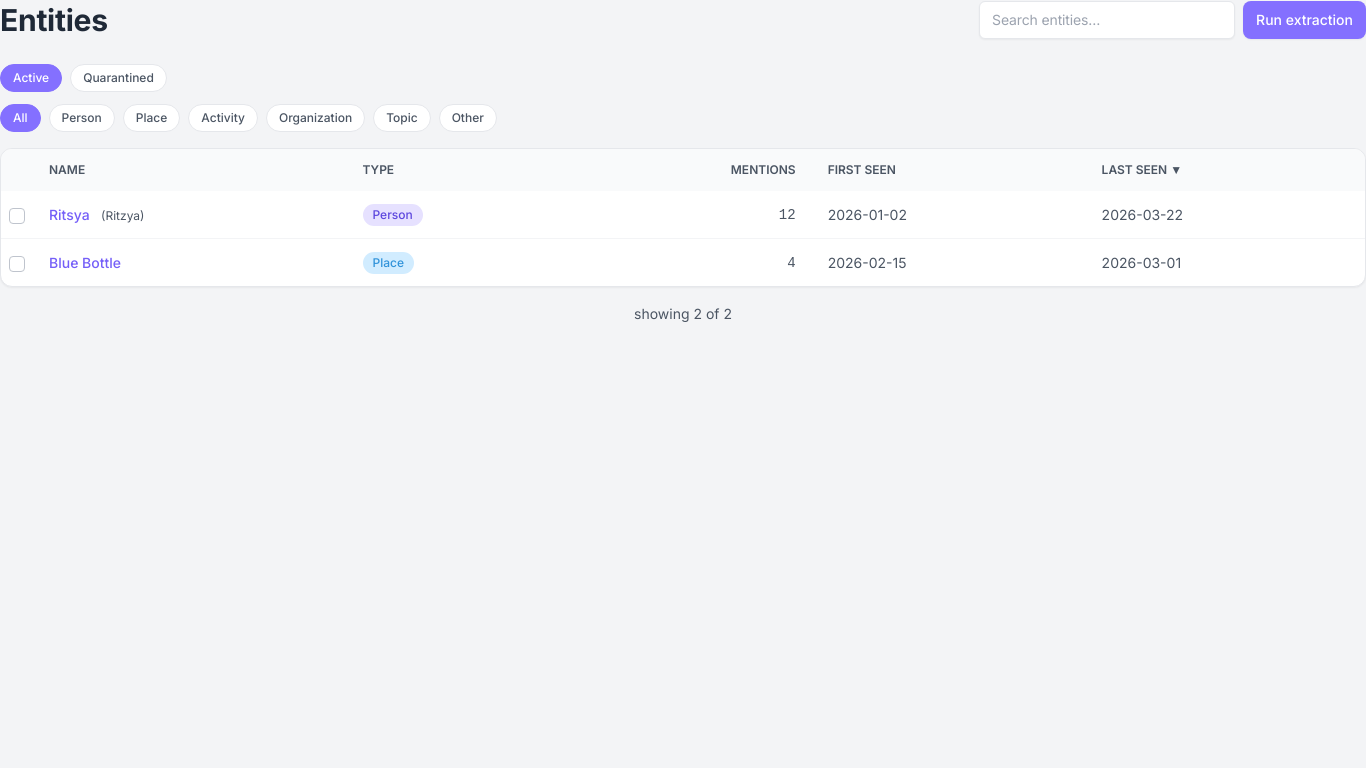
Test: EntityListView › merge modal flow › shows merge error when mergeEntities throws
# Select both and open merge modal
Click the checkbox with test id "entity-checkbox" next to "Ritsya" at (17, 216), box x1=9 y1=208 x2=25 y2=224
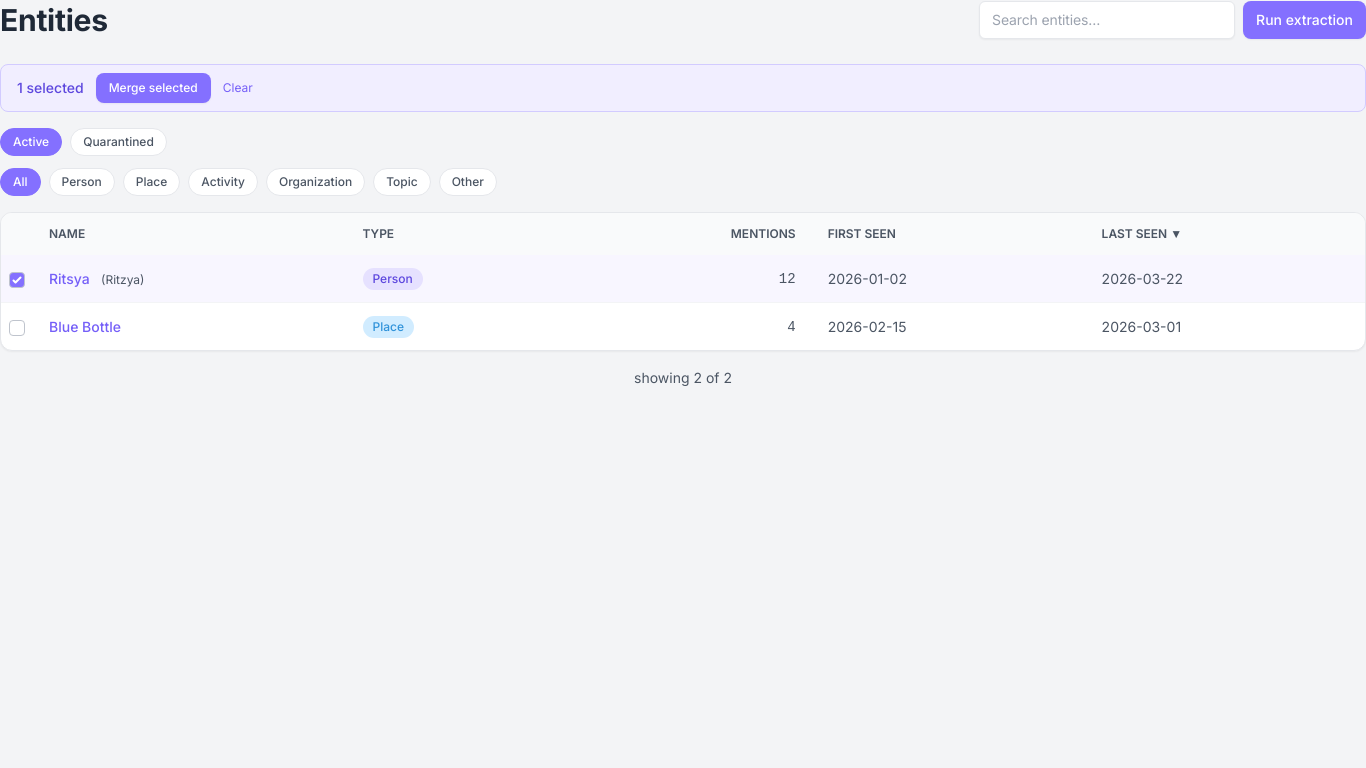
Click the checkbox with test id "entity-checkbox" next to "Blue Bottle" at (17, 328), box x1=9 y1=320 x2=25 y2=336
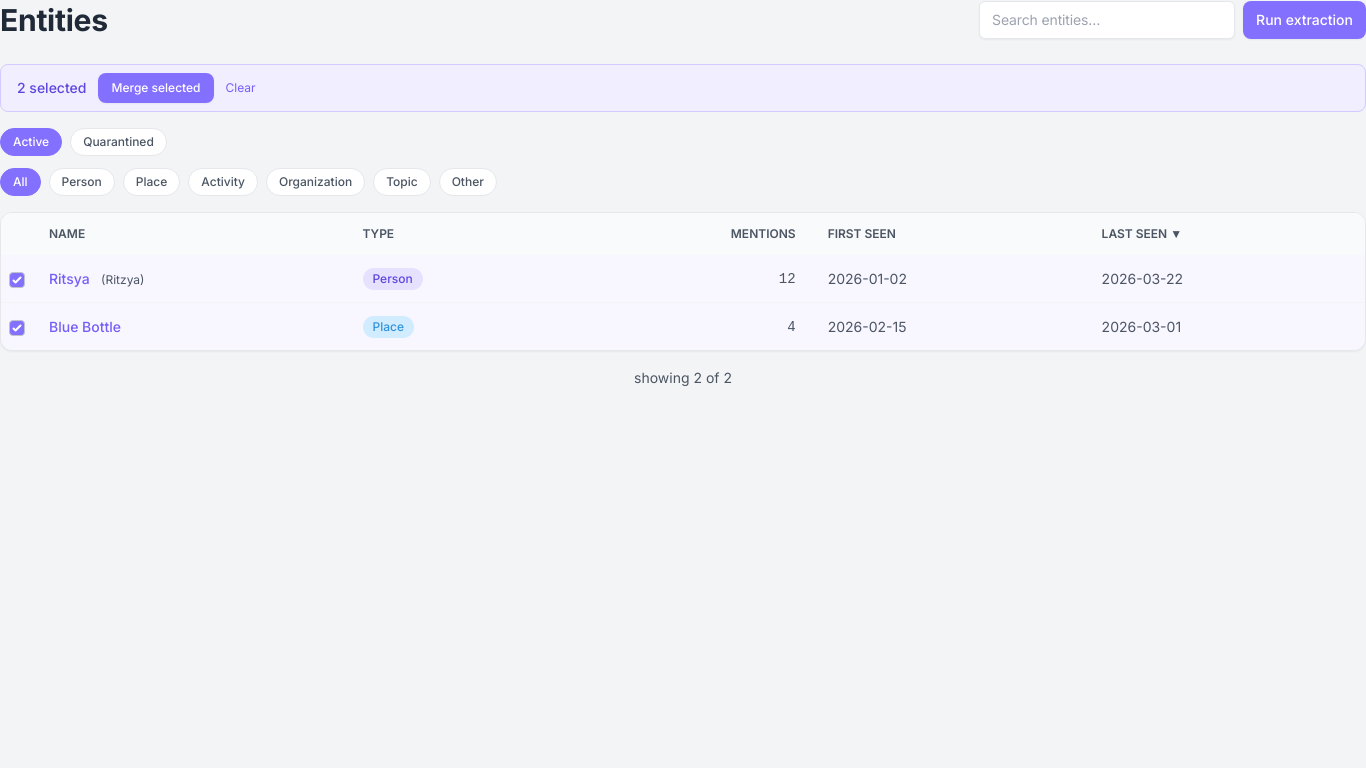
Click the button with test id "merge-button" at (156, 88), box x1=98 y1=73 x2=214 y2=103
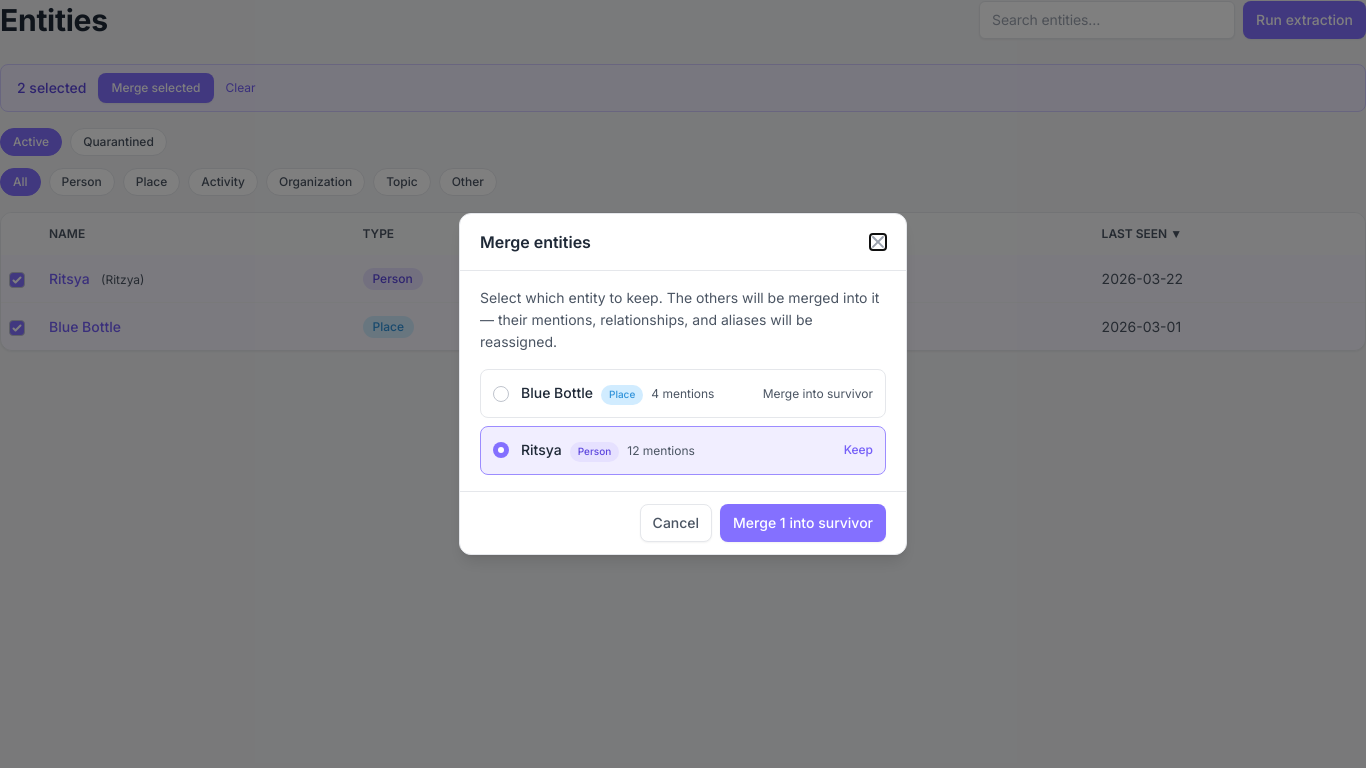
Click the button with test id "confirm-merge-button" at (803, 523), box x1=720 y1=504 x2=886 y2=542
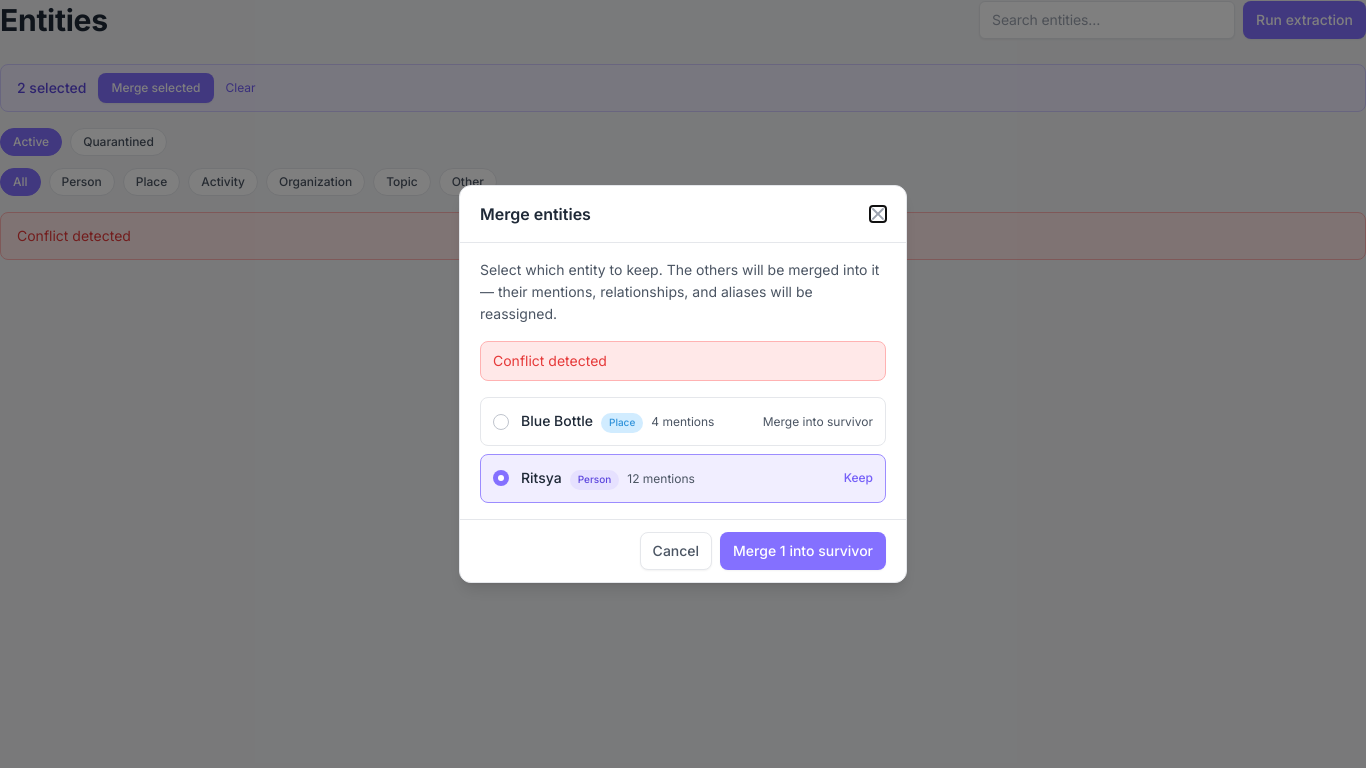
Now the dialog with test id "modal-panel" is shown, box x1=459 y1=185 x2=907 y2=583
Now the text "Conflict detected" is shown, box x1=480 y1=341 x2=886 y2=381
Now the text with test id "merge-error" reads "Conflict detected", box x1=493 y1=352 x2=607 y2=369
